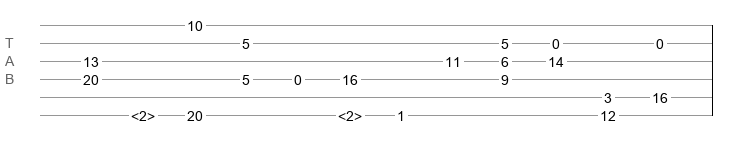0: (294, 72, 302, 82), (552, 36, 560, 46), (656, 36, 664, 46)
1: (397, 108, 405, 118)
10: (187, 18, 203, 28)
11: (445, 54, 461, 64)
12: (600, 108, 616, 118)
13: (83, 54, 99, 64)
14: (548, 54, 564, 64)
16: (342, 72, 358, 82), (652, 90, 668, 100)
20: (83, 72, 99, 82), (187, 108, 203, 118)
3: (604, 90, 612, 100)
5: (242, 72, 250, 82), (242, 36, 250, 46), (501, 36, 509, 46)
6: (501, 54, 509, 64)
9: (501, 72, 509, 82)
harmonic: (131, 108, 155, 118), (338, 108, 362, 118)
